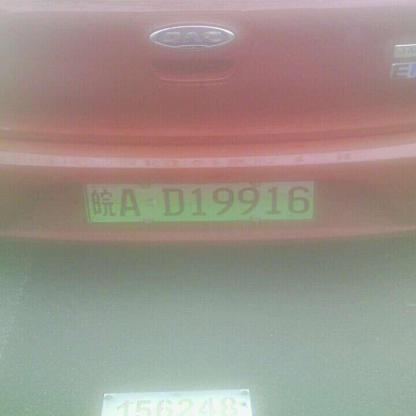lp: (84, 181, 314, 220)
